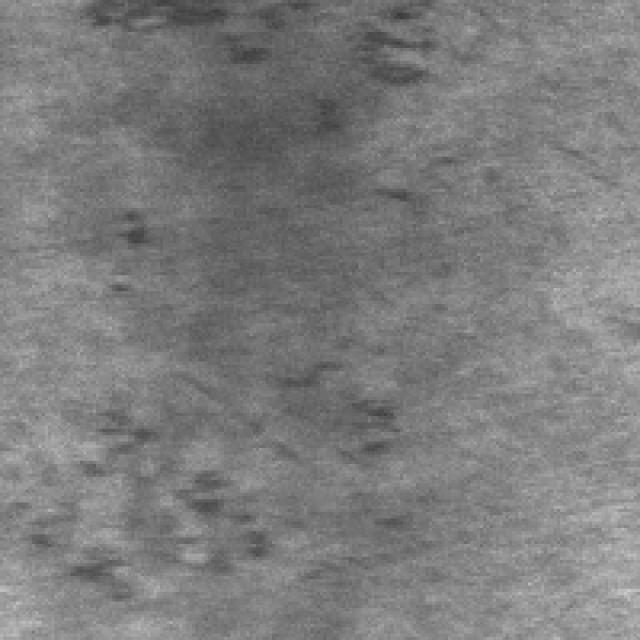rolled-in_scale: (6, 352, 381, 595), (80, 0, 438, 96)
